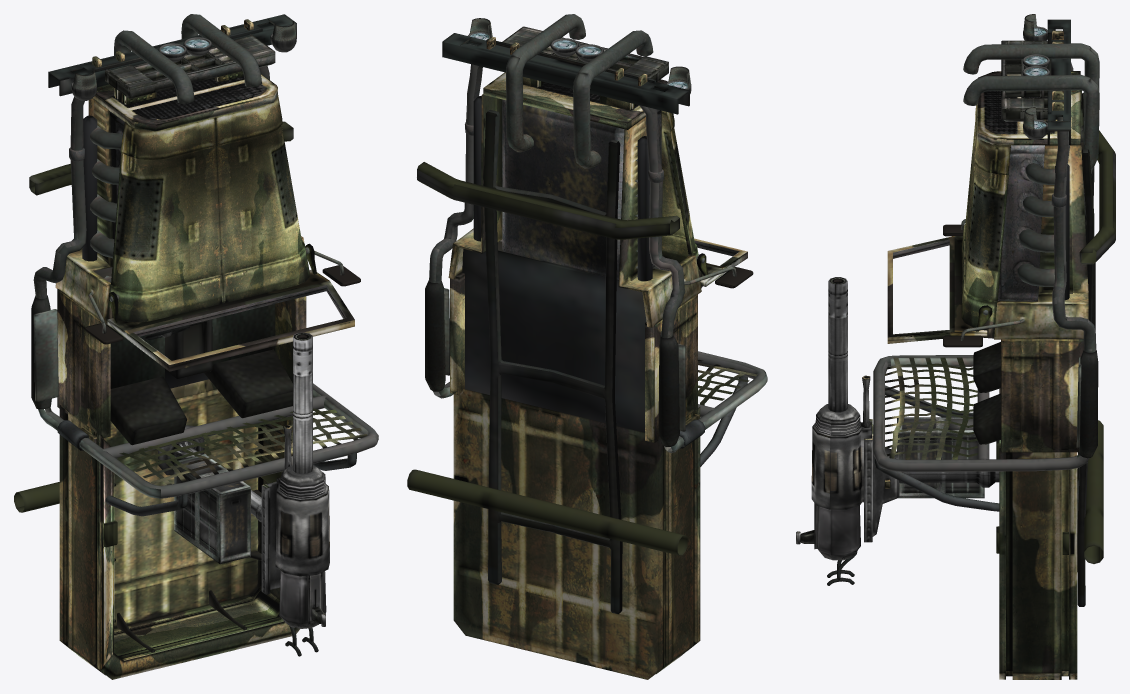
The model's file is guncar.obj.
3 views of the same model, side by side, from view 1: azimuth 30°, elevation 25°; view 2: azimuth 150°, elevation 25°; view 3: azimuth 270°, elevation 25° (orthographic). The views are drawn at different scales.
Parts seen in each view (by area): view 1: tujiche.001; view 2: tujiche.001; view 3: tujiche.001.
Part boxes in pixels (x1,y1,x2,y2): tujiche.001: (14,14,378,679); tujiche.001: (407,14,767,679); tujiche.001: (796,14,1115,679).
Size of the model in its own units: 1.81 by 3.85 by 1.93.
1 material, 1 textured.
